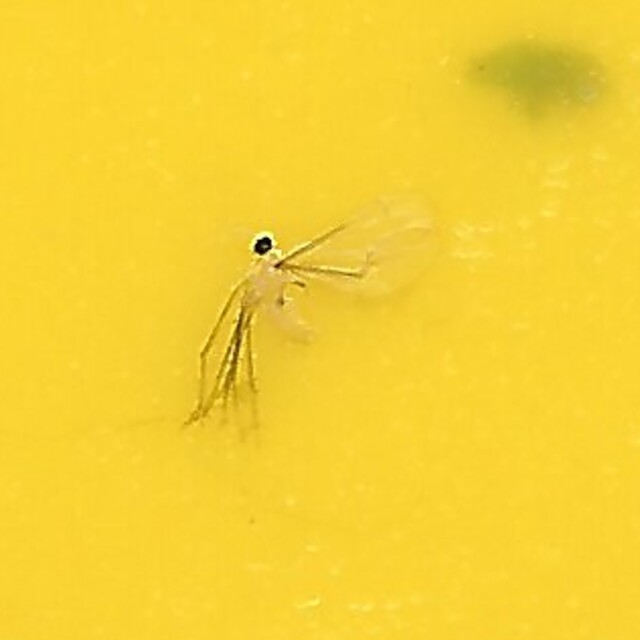Brachycera: (203, 201, 437, 439)
